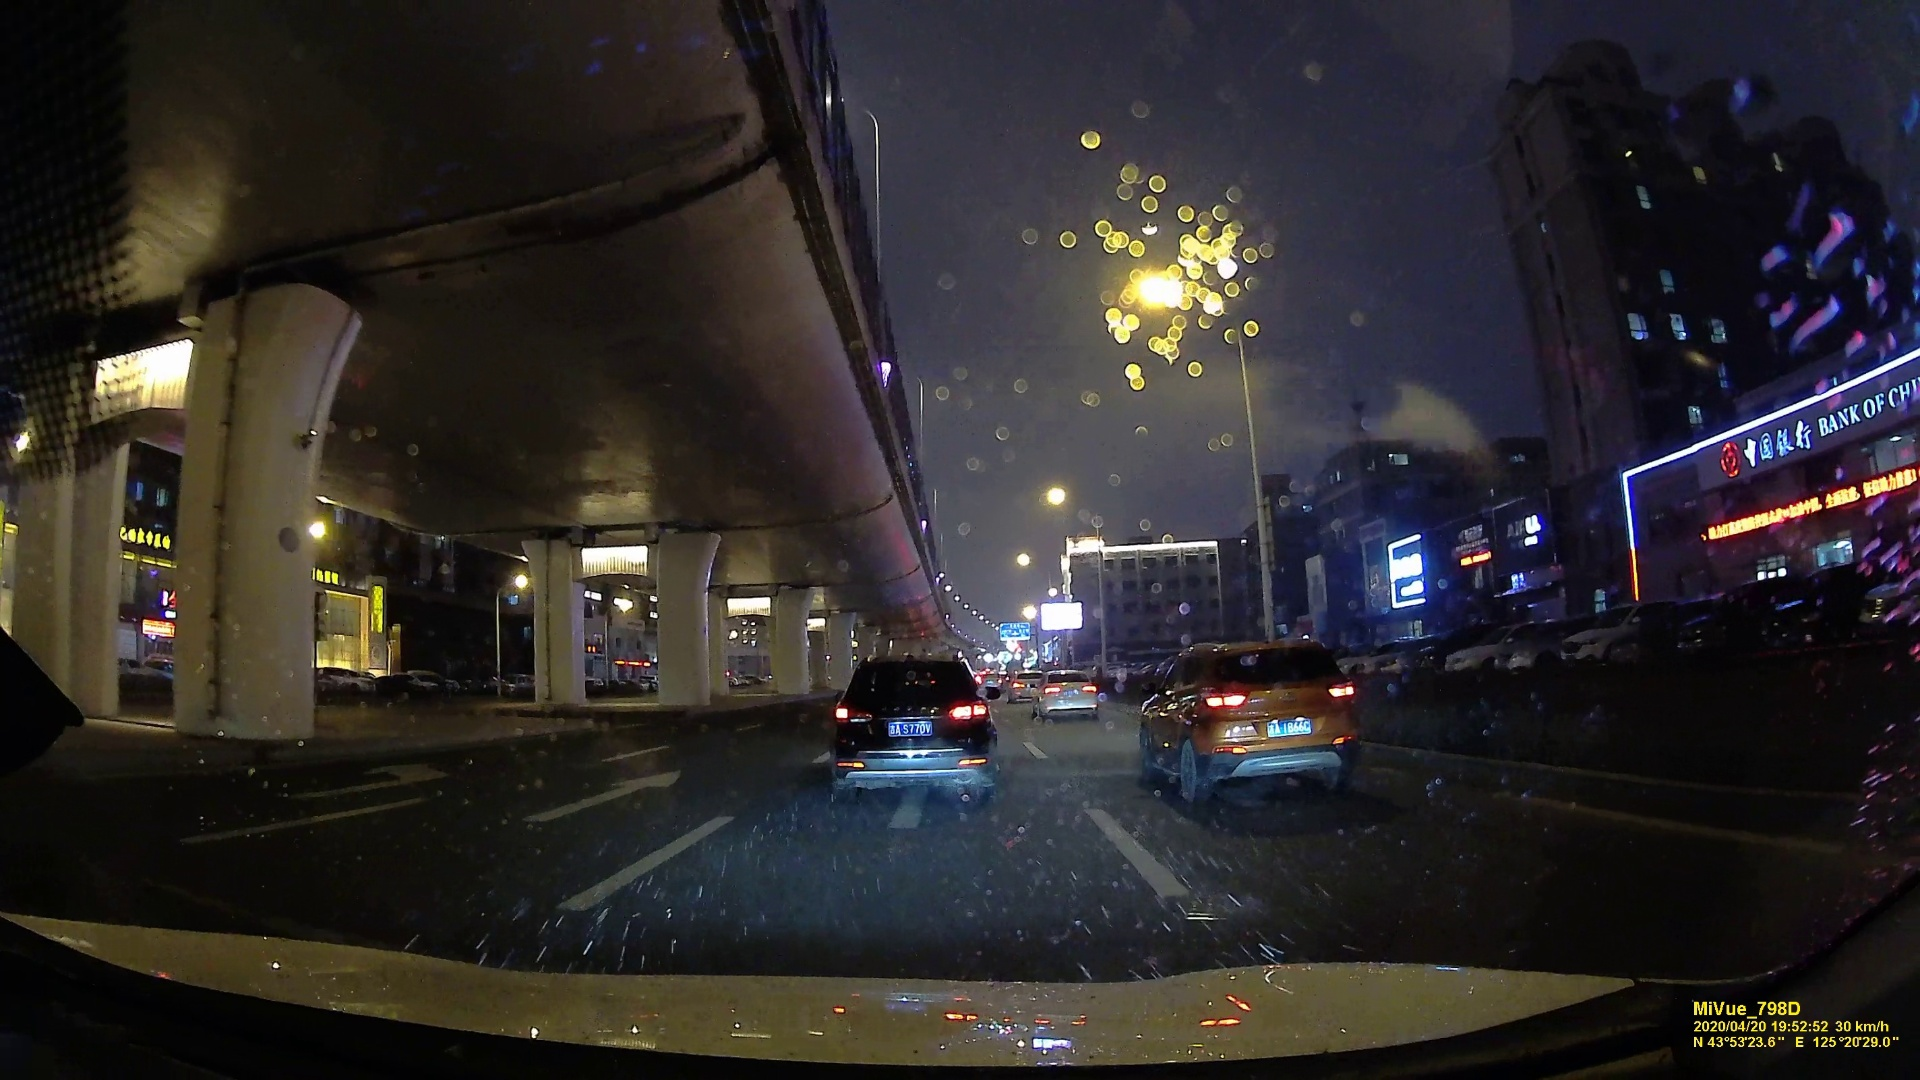traffic_sign: (1000, 622, 1029, 640)
vehicle: (1141, 640, 1369, 803), (828, 647, 1002, 806), (1029, 673, 1100, 721)
